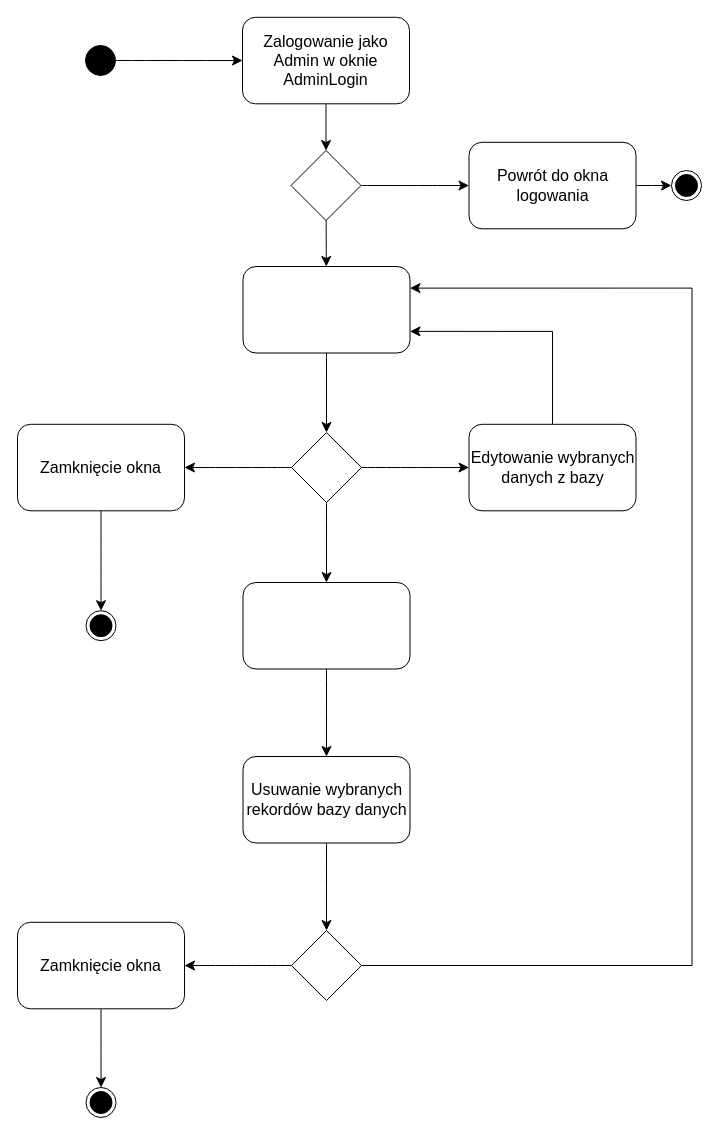
Some shapes in this 720 by 1136 pixel diagram are drawn without their labels. The shapes that lost their labels are listed below. From the top down, each one's centre as x and y in pixels, then its label:
At (326,309): "Wyświetlenie okna Books".
At (326,625): "Wyszukiwanie wybranych danych z bazy".
